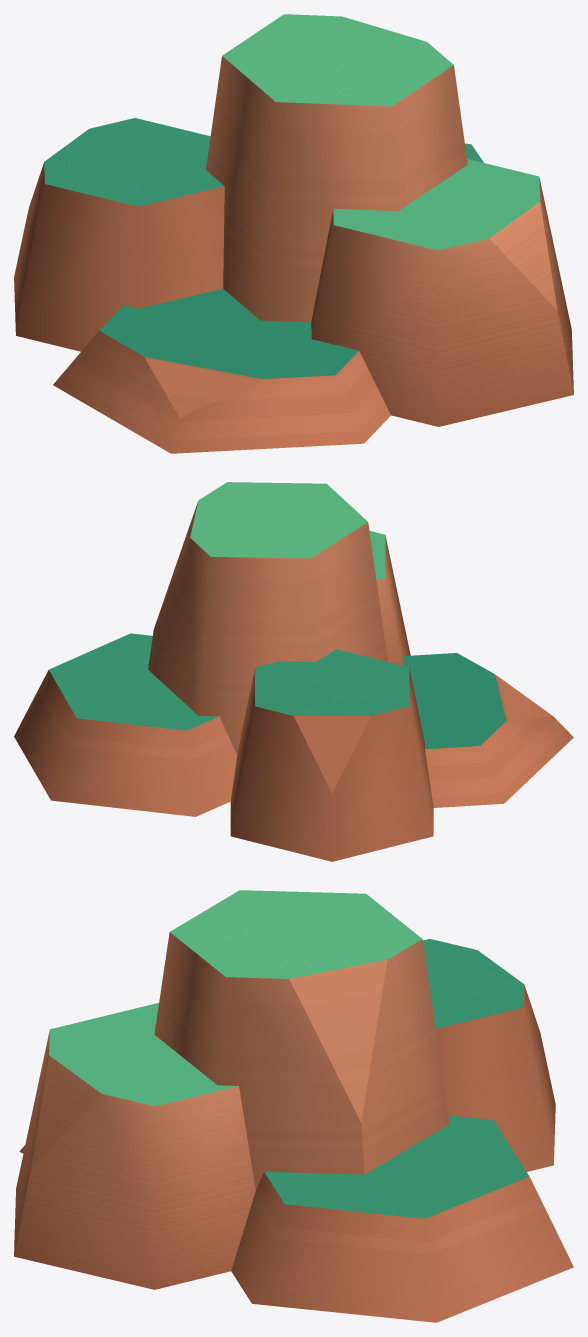
File: detail-dirt-large.glb
3 views of the same model, one above another, from view 1: azimuth 30°, elevation 25°; view 2: azimuth 150°, elevation 25°; view 3: azimuth 270°, elevation 25° (orthographic). The views are drawn at different scales.
Visible parts, largest first — view 1: detail-dirt-large; view 2: detail-dirt-large; view 3: detail-dirt-large.
Part boxes in pixels (x1=…): detail-dirt-large: x1=14, y1=14, x2=573, y2=453; detail-dirt-large: x1=14, y1=482, x2=573, y2=861; detail-dirt-large: x1=14, y1=890, x2=573, y2=1322.
Bounding box in the file's own units: 2.56 × 1.24 × 2.34.
1 material, 1 textured.
